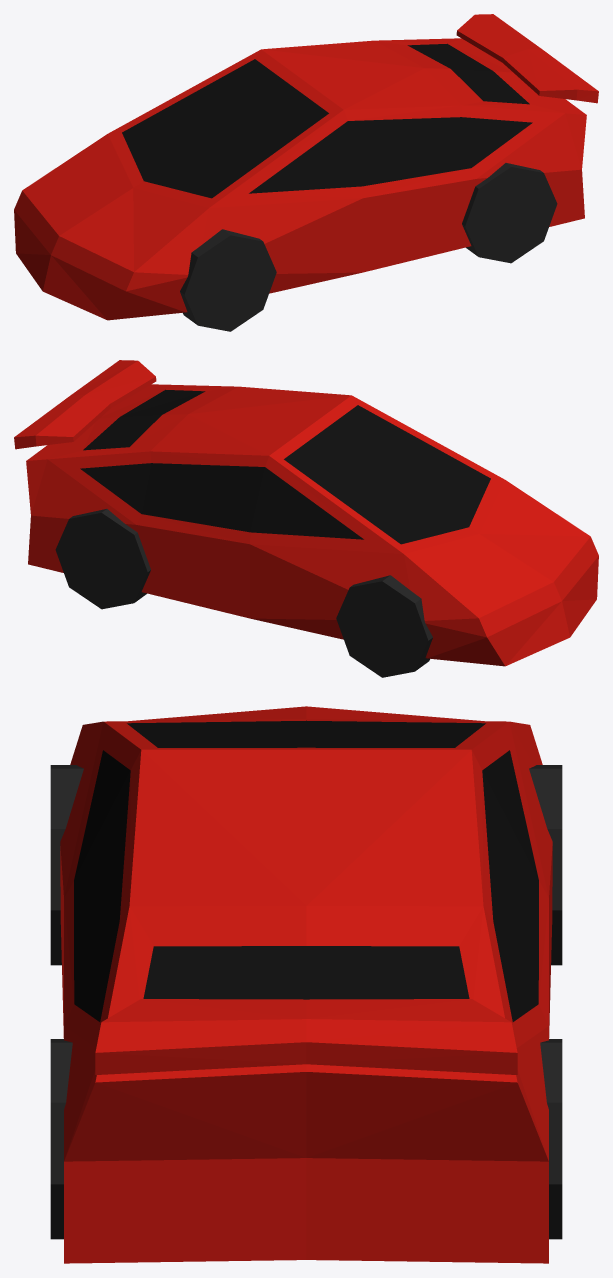
File: cars_00.dae
3 views of the same model, one above another, from view 1: azimuth 30°, elevation 25°; view 2: azimuth 150°, elevation 25°; view 3: azimuth 270°, elevation 25° (orthographic). The views are drawn at different scales.
Parts seen in each view (by area): view 1: Cube.007, Circle.004; view 2: Cube.007, Circle.004; view 3: Cube.007, Circle.004.
Part boxes in pixels (x1=…): Cube.007: x1=14, y1=14, x2=598, y2=320; Circle.004: x1=180, y1=163, x2=557, y2=331; Cube.007: x1=14, y1=360, x2=598, y2=666; Circle.004: x1=55, y1=509, x2=432, y2=677; Cube.007: x1=60, y1=706, x2=552, y2=1263; Circle.004: x1=50, y1=765, x2=562, y2=1239.
Size of the model in its own units: 1.97 by 0.866 by 0.6435.
